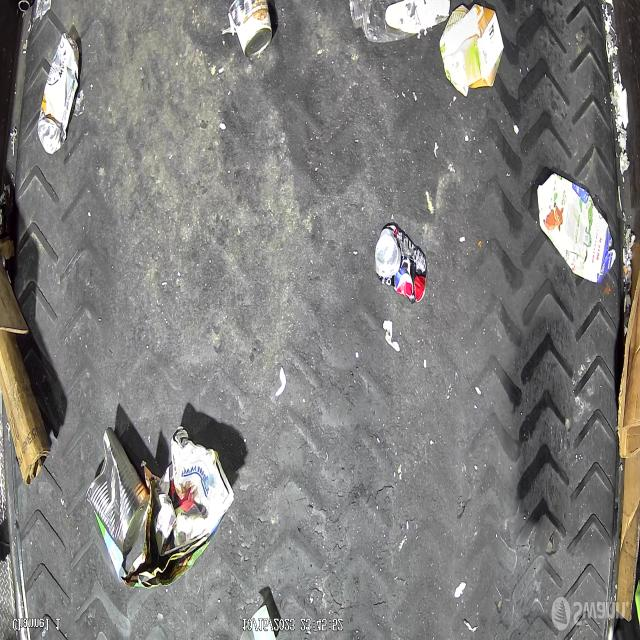can: (86, 428, 150, 558), (37, 32, 79, 156), (374, 223, 428, 304), (228, 0, 272, 57)
non_white_jug: (538, 173, 616, 283), (438, 3, 504, 97)
plastic_bottle: (349, 0, 450, 43)
